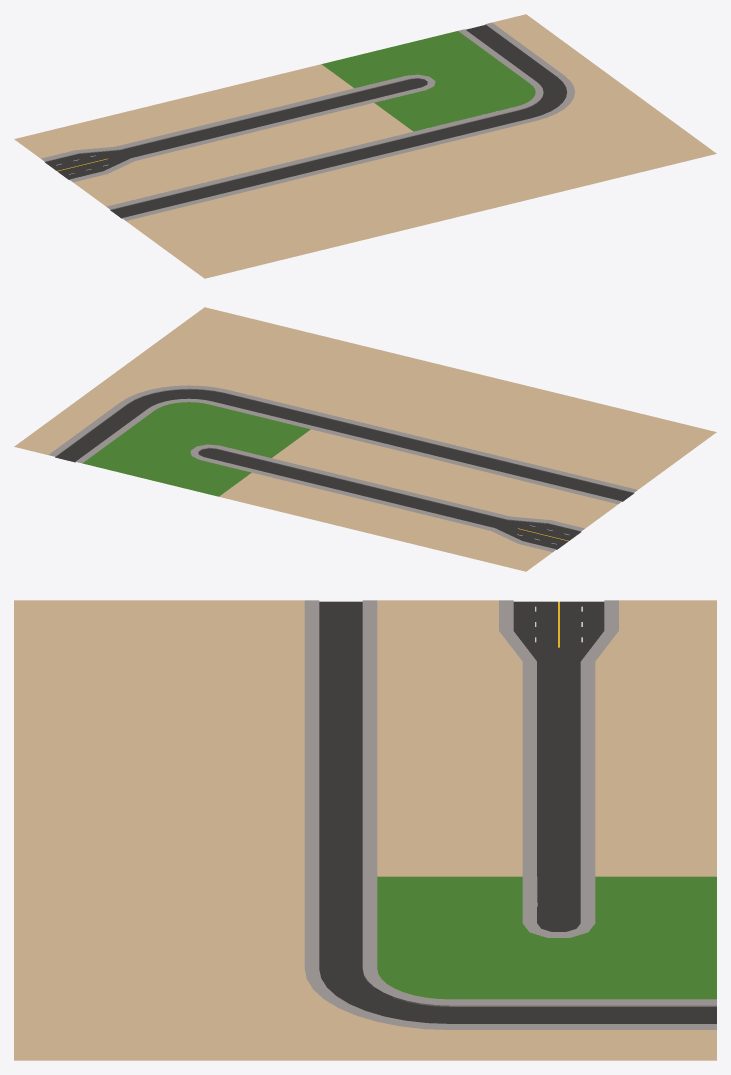
File: road-zone-gated-community.glb
3 renders of one model, top to bottom at view 1: azimuth 30°, elevation 25°; view 2: azimuth 150°, elevation 25°; view 3: azimuth 270°, elevation 25°, orthographic. The views are drawn at different scales.
Visible parts, largest first — view 1: gc-road-outer-edge, gc-road-straight-inner, gc-road-curved, gc-road-end, gc-main-road, gc-road-straight-outer; view 2: gc-road-outer-edge, gc-road-straight-inner, gc-road-curved, gc-road-end, gc-main-road, gc-road-straight-outer; view 3: gc-road-outer-edge, gc-road-straight-inner, gc-road-curved, gc-road-end, gc-main-road, gc-road-straight-outer.
Part boxes in pixels (x1,y1,x2,y2): gc-road-outer-edge: (87,92,613,278); gc-road-straight-inner: (116,64,393,166); gc-road-curved: (496,67,716,178); gc-road-end: (321,31,529,116); gc-main-road: (14,114,188,191); gc-road-straight-outer: (458,14,598,83); gc-road-outer-edge: (189,332,716,518); gc-road-straight-inner: (219,444,495,546); gc-road-curved: (87,307,306,418); gc-road-end: (82,410,290,496); gc-main-road: (424,494,598,571); gc-road-straight-outer: (14,394,154,463); gc-road-outer-edge: (14,600,449,969); gc-road-straight-inner: (450,692,716,877); gc-road-curved: (14,968,449,1060); gc-road-end: (450,876,716,999); gc-main-road: (450,600,716,693); gc-road-straight-outer: (450,999,716,1060).
Size of the model in its own units: 150 by 0.2014 by 96.75.
